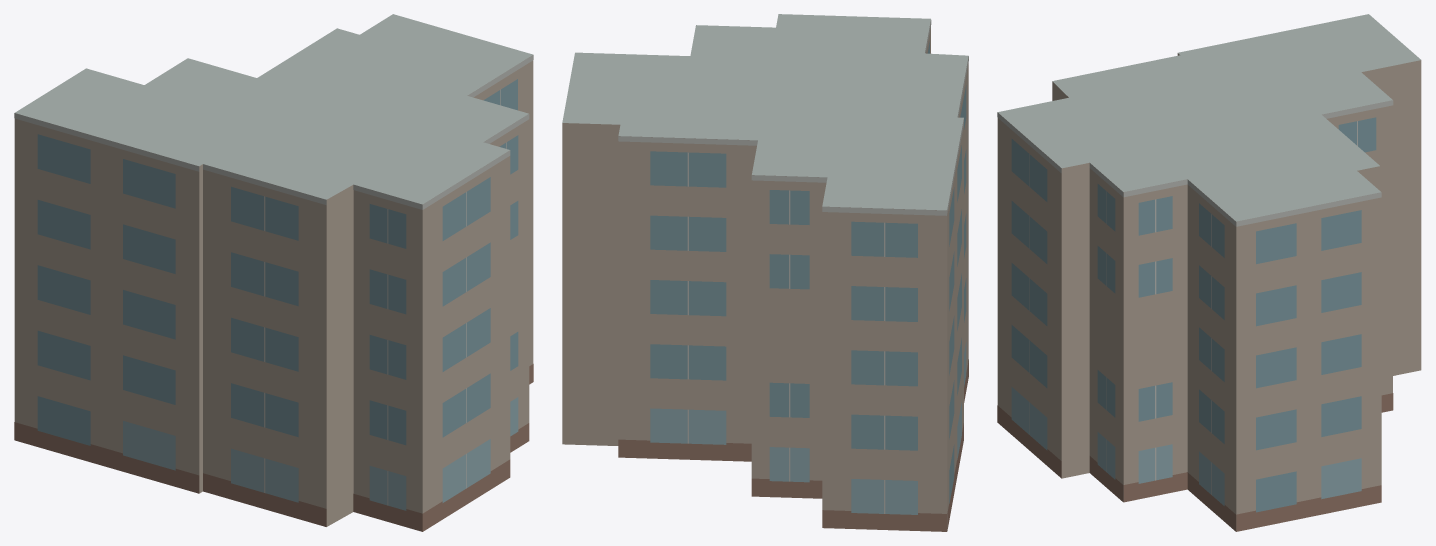
The model's file is survey-upis-32875443.glb.
The picture shows the model from 3 angles, left to right: view 1: azimuth 30°, elevation 25°; view 2: azimuth 150°, elevation 25°; view 3: azimuth 270°, elevation 25°; orthographic projection. The views are drawn at different scales.
Parts seen in each view (by area): view 1: survey-upis-32875443.tmp; view 2: survey-upis-32875443.tmp; view 3: survey-upis-32875443.tmp.
Part boxes in pixels (x1,y1,x2,y2): survey-upis-32875443.tmp: (14,14,533,531); survey-upis-32875443.tmp: (562,14,968,531); survey-upis-32875443.tmp: (997,14,1421,531).
Size of the model in its own units: 20.82 by 14.5 by 17.97.
